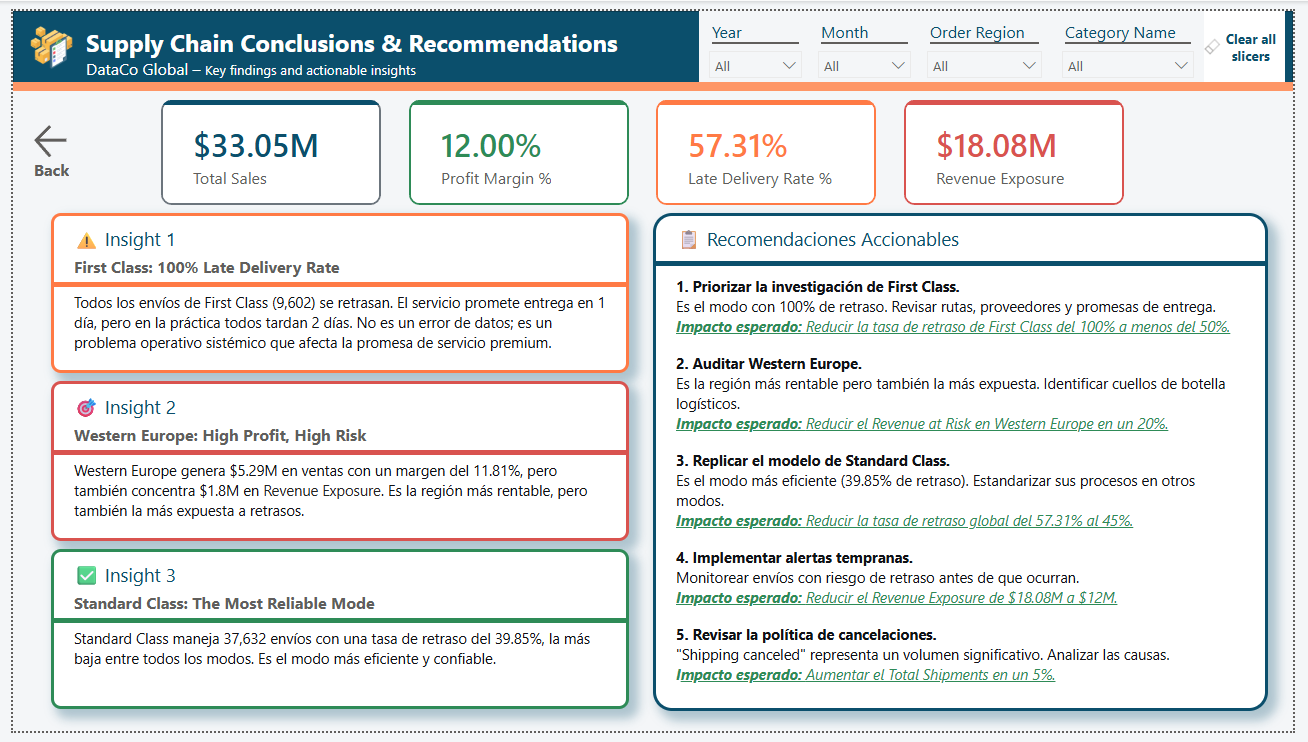

The page's visual inventory and layout, read from the dashboard file:
{"tool":"powerbi","page":{"name":"Key findings and actionable insights","canvas":[1280,720],"ordinal":2},"visuals":[{"type":"shape","box":[0,0,1280,80],"z":0},{"type":"cardVisual","fields":{"Data":["_Measures.Total Sales"]},"box":[148,89,220,105],"z":1000},{"type":"textbox","box":[58,0,618,74],"z":2000},{"type":"image","box":[16.7,14.2,43.3,44.2],"z":3000},{"type":"actionButton","box":[1187,0,85,71],"z":4000},{"type":"cardVisual","fields":{"Data":["_Measures.Profit Margin %"]},"box":[395.5,89.1,220,105],"z":5000},{"type":"slicer","fields":{"Values":["dim_date.Year"]},"box":[686,0,112.9,72.9],"z":6000},{"type":"slicer","fields":{"Values":["dim_date.Month Short"]},"box":[795.2,0,112.7,80],"z":7000},{"type":"slicer","fields":{"Values":["fact_orders.order_region"]},"box":[904,0,135,79],"z":8000},{"type":"slicer","fields":{"Values":["dim_products.category_name"]},"box":[1039,0,152,80],"z":9000},{"type":"shape","box":[0,71.2,1280,8.8],"z":10000},{"type":"cardVisual","fields":{"Data":["_Measures.Late Delivery Rate %"]},"box":[643,89.1,220,105],"z":12000},{"type":"cardVisual","fields":{"Data":["_Measures.Revenue Exposure"]},"box":[890.5,89.1,220,105],"z":13000},{"type":"textbox","title":"⚠️ Insight 1","box":[38,202,578,160],"z":14000},{"type":"textbox","title":"🎯 Insight 2","box":[38,370,578,160],"z":15000},{"type":"textbox","title":"✅ Insight 3","box":[38,538,578,160],"z":16000},{"type":"textbox","title":"📋 Recomendaciones Accionables","box":[640,202,615,498],"z":17000},{"type":"actionButton","box":[0,102,77,78],"z":18000}]}

Visuals, with their boxes in screenshot pixels (x1, y1, x2, y2), scaled from the page's 1280x720 canvas onto the 1308x742 screenshot:
shape: [0,0,1307,82]
cardVisual - _Measures.Total Sales: [151,92,376,200]
textbox: [59,0,691,76]
image: [17,15,61,60]
actionButton: [1213,0,1300,73]
cardVisual - _Measures.Profit Margin %: [404,92,629,200]
slicer - dim_date.Year: [701,0,816,75]
slicer - dim_date.Month Short: [813,0,928,82]
slicer - fact_orders.order_region: [924,0,1062,81]
slicer - dim_products.category_name: [1062,0,1217,82]
shape: [0,73,1307,82]
cardVisual - _Measures.Late Delivery Rate %: [657,92,882,200]
cardVisual - _Measures.Revenue Exposure: [910,92,1135,200]
"⚠️ Insight 1" textbox: [39,208,629,373]
"🎯 Insight 2" textbox: [39,381,629,546]
"✅ Insight 3" textbox: [39,554,629,719]
"📋 Recomendaciones Accionables" textbox: [654,208,1282,721]
actionButton: [0,105,79,185]
